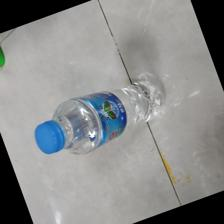Lavie: (32, 82, 158, 155)
